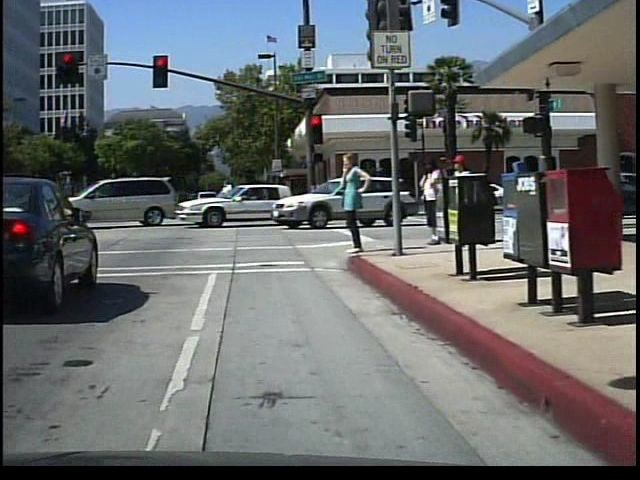person: (335, 148, 371, 259), (442, 146, 477, 248), (417, 149, 441, 245)
